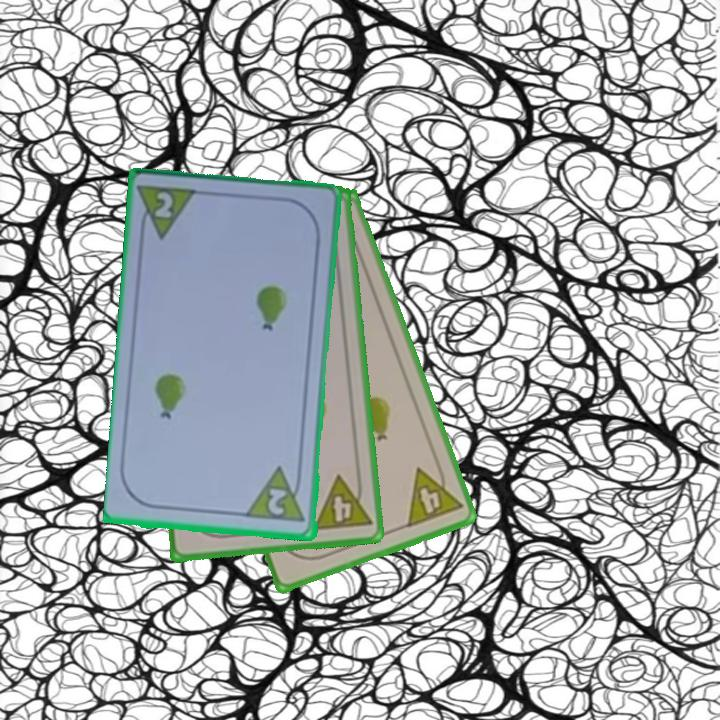2p: (245, 464, 309, 526), (151, 188, 176, 222)
4p: (403, 457, 466, 531), (309, 470, 374, 534)
